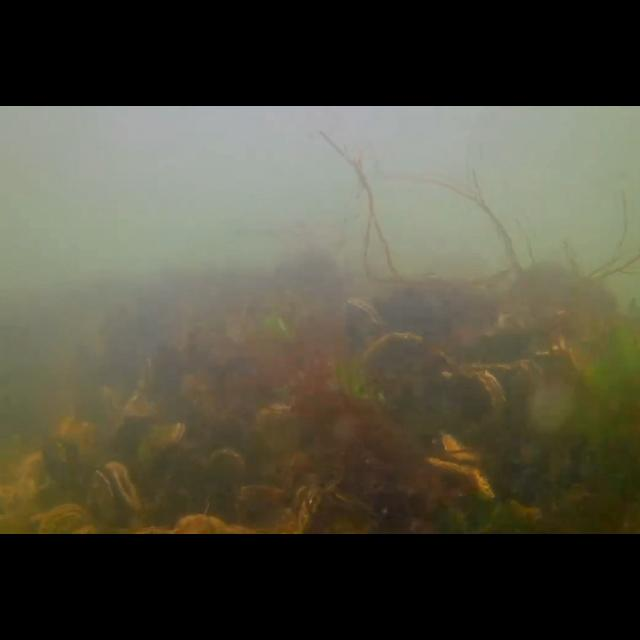Oyster-Closed: (466, 358, 546, 409), (363, 332, 439, 384), (439, 368, 508, 422), (426, 456, 496, 502), (209, 444, 249, 508), (125, 353, 157, 423), (38, 505, 94, 535), (441, 432, 492, 462)
Oyster-Open: (88, 462, 142, 534), (346, 298, 388, 362), (138, 420, 186, 460), (292, 482, 326, 534)
